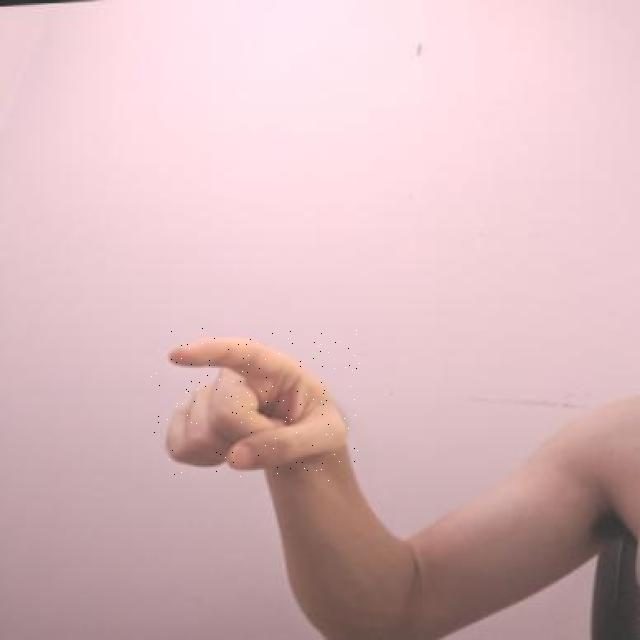Z: (151, 328, 360, 482)
